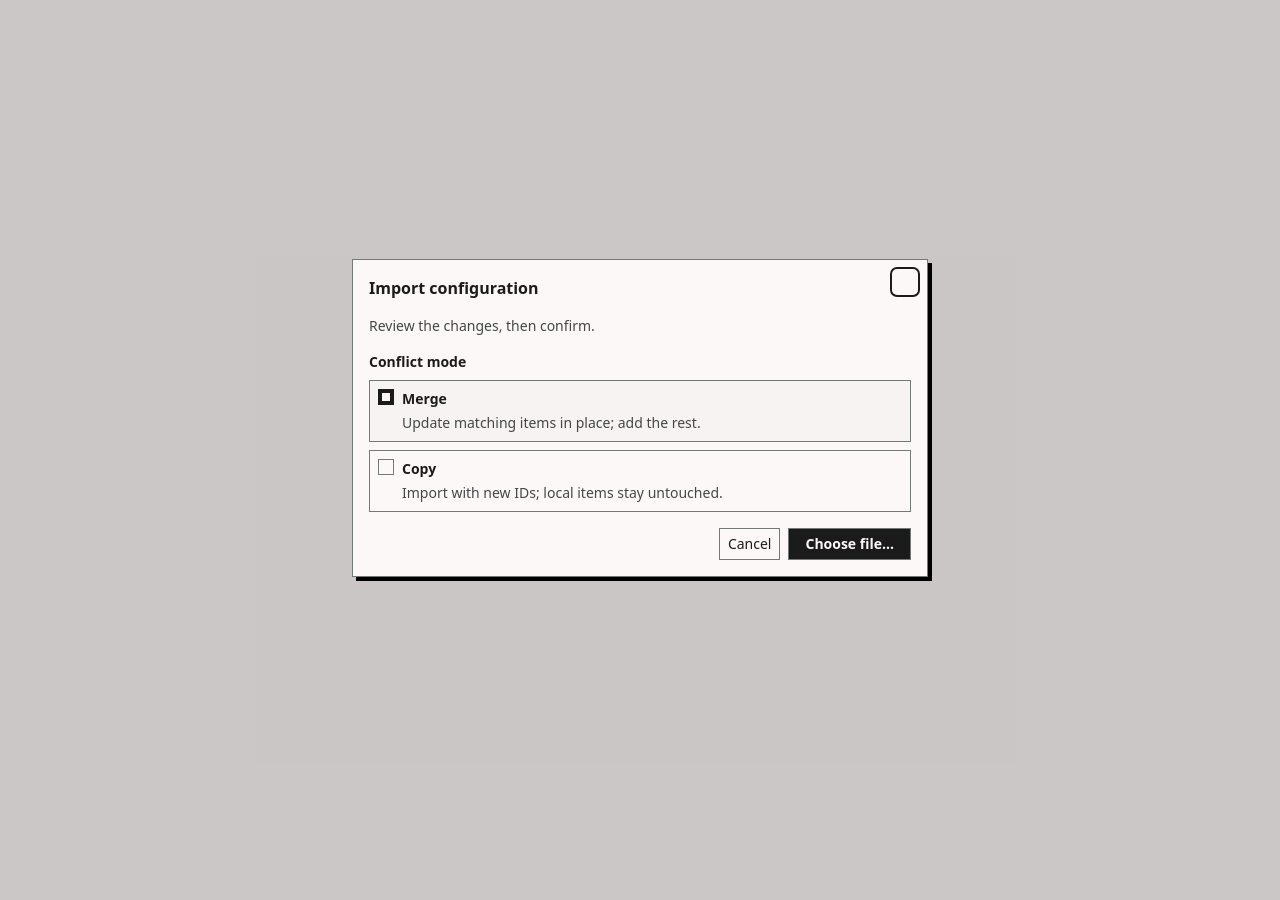
Test: ConfigurationImportPreviewDialog apply flow › credential warning lists only the proxy category for a proxy-only preview
Click the button "Choose file…": (850, 544) [788,528,911,560]
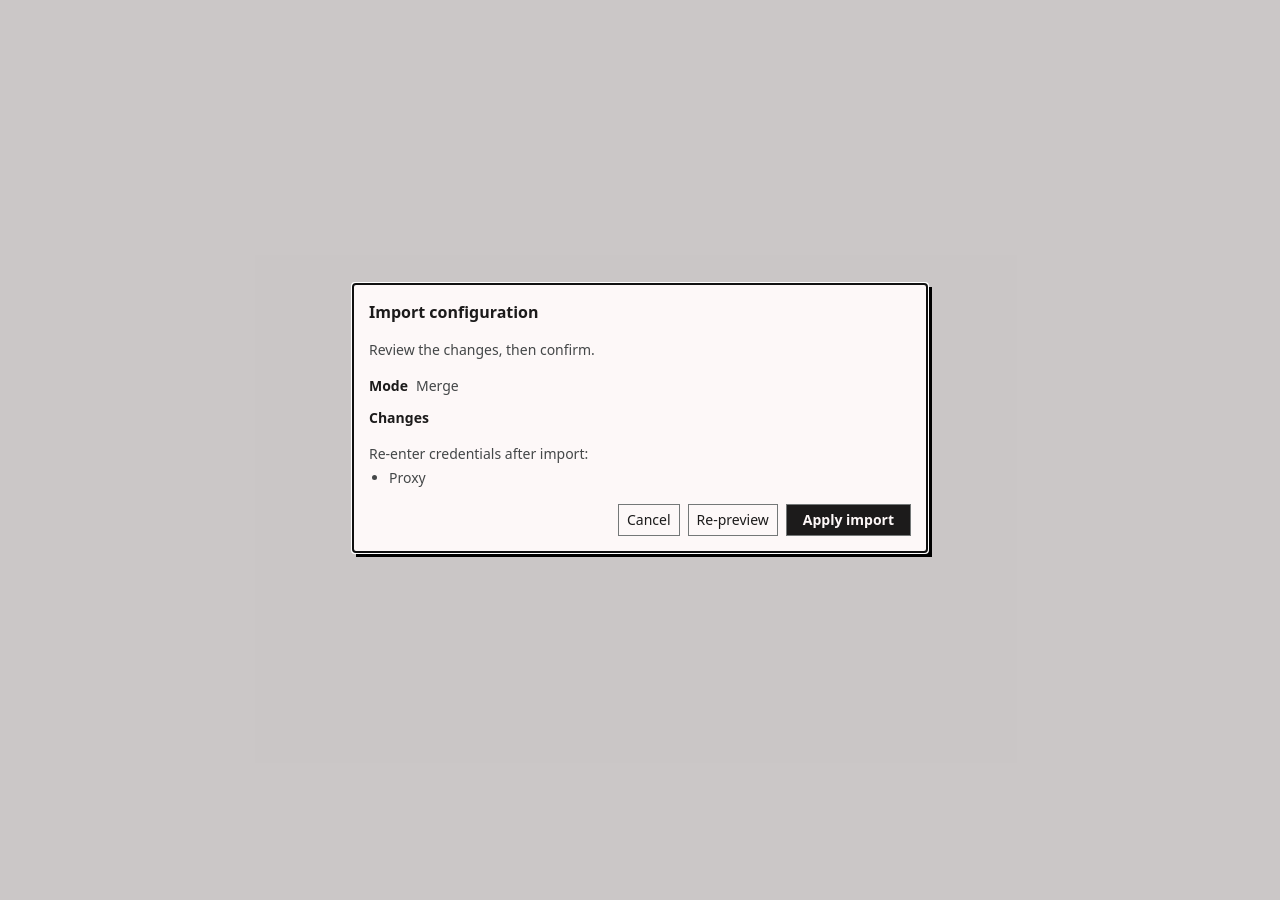
Result: the button "Apply import" is shown at [786,504,911,536]
Result: the text "Re-enter credentials after import:" is shown at [369,444,588,463]
Result: the list item "Proxy" is shown at [389,468,426,487]
